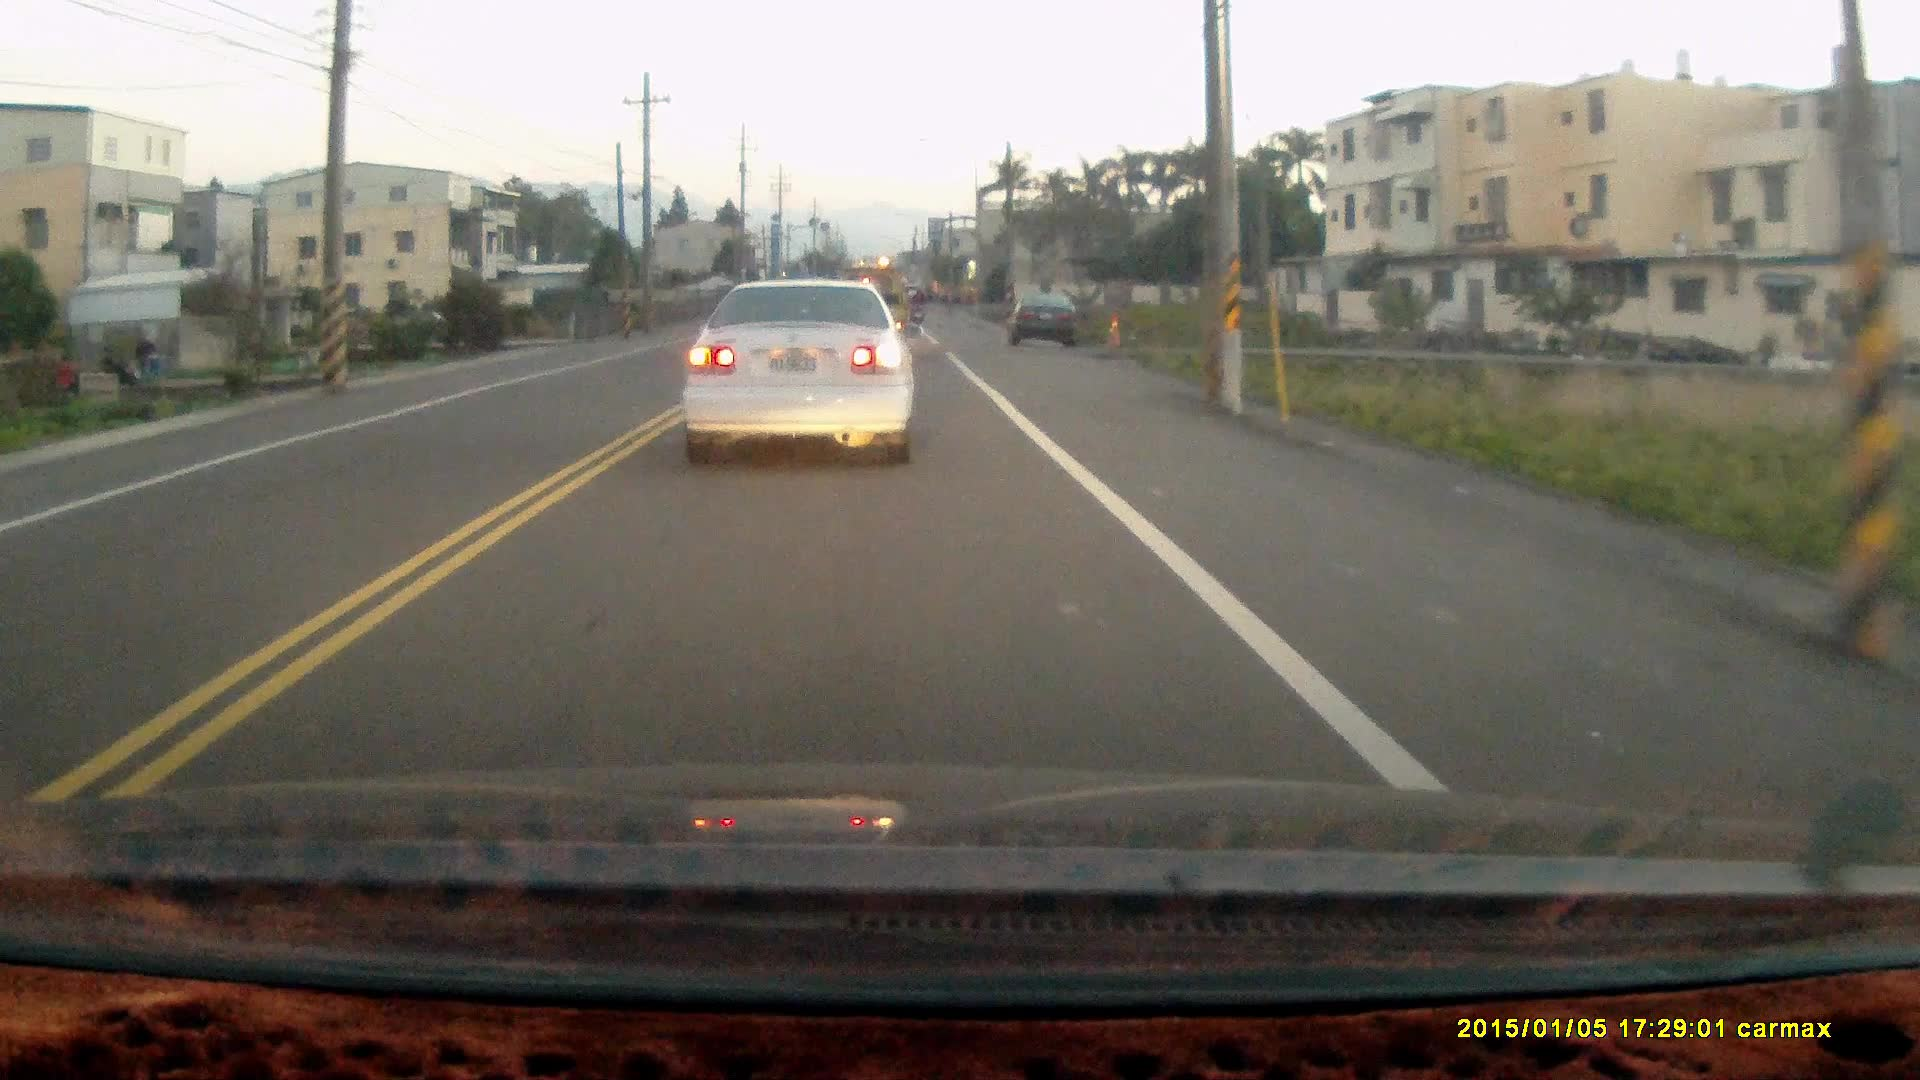pedestrian: (47, 349, 78, 414)
vehicle: (682, 274, 922, 469), (1011, 289, 1081, 347)
